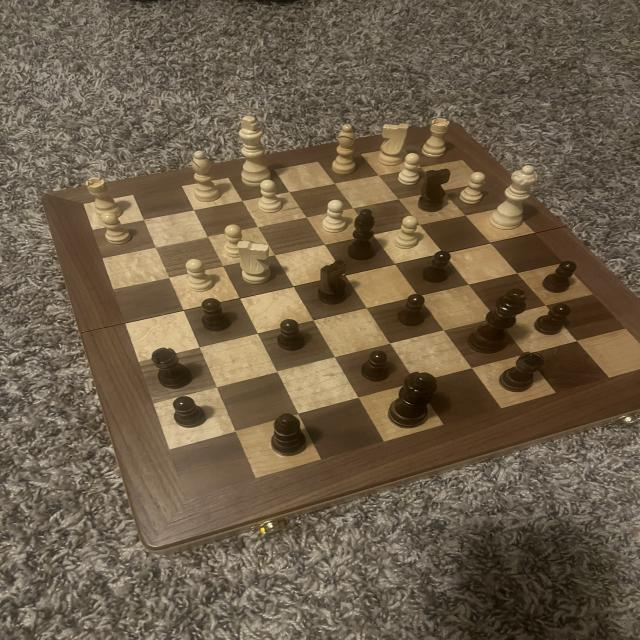bishop: (343, 206, 382, 264), (268, 410, 311, 459)
black-bishop: (460, 286, 531, 358)
black-king: (417, 168, 455, 215), (315, 255, 350, 306)
black-knight: (533, 303, 577, 338), (539, 260, 582, 295), (169, 393, 208, 428), (199, 296, 233, 336), (273, 318, 309, 354), (419, 248, 453, 285), (357, 350, 393, 382), (397, 292, 428, 327)
black-pawn: (387, 371, 442, 432)
black-queen: (496, 350, 549, 398), (148, 347, 193, 391)
black-rook: (187, 148, 227, 204), (326, 122, 364, 178)
white-bishop: (234, 115, 276, 190)
white-king: (233, 239, 278, 286), (375, 120, 417, 169)
white-knight: (182, 255, 218, 292), (101, 211, 134, 248), (320, 198, 351, 237), (456, 171, 489, 206), (392, 215, 423, 250), (256, 179, 286, 214), (396, 151, 425, 185), (221, 222, 248, 256)
white-pawn: (485, 162, 544, 232)
white-queen: (84, 176, 126, 223), (420, 116, 454, 158)
